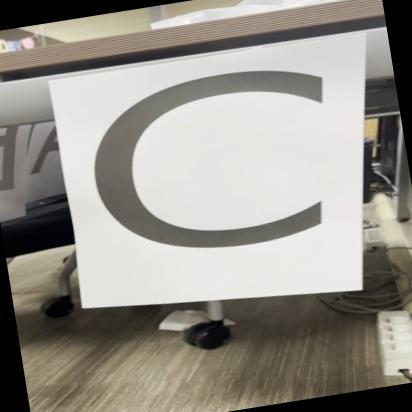seat: (55, 31, 384, 330)
